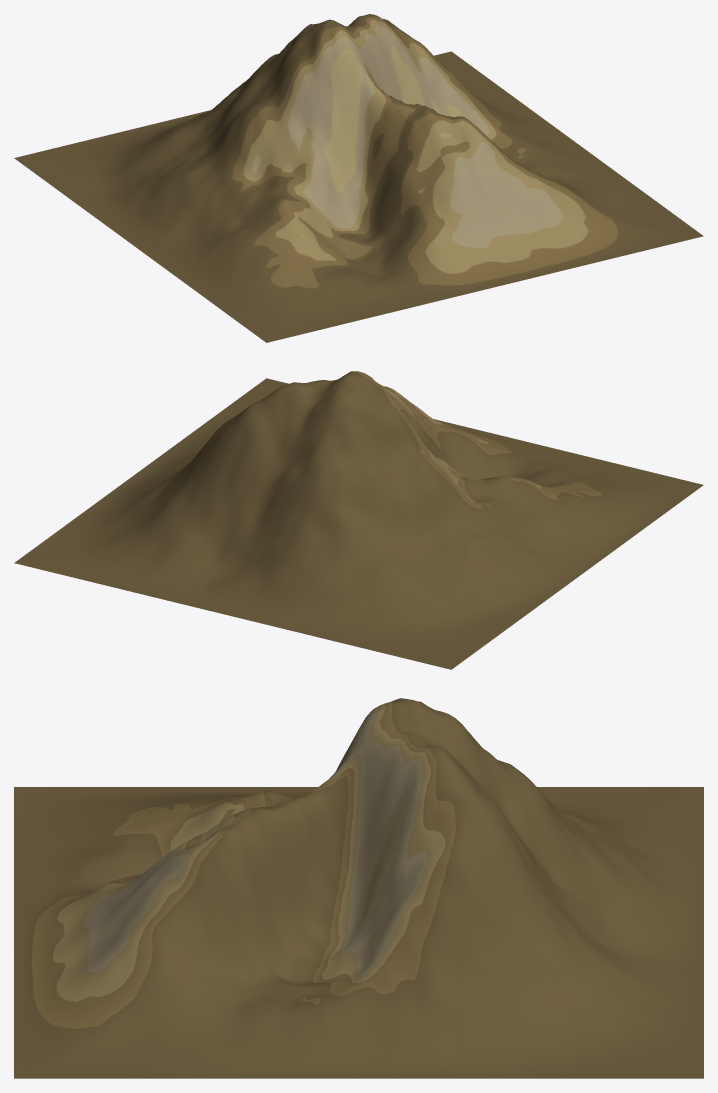
3 views of the same model, one above another, from view 1: azimuth 30°, elevation 25°; view 2: azimuth 150°, elevation 25°; view 3: azimuth 270°, elevation 25° (orthographic). The views are drawn at different scales.
Visible parts, largest first — view 1: Landscape.1; view 2: Landscape.1; view 3: Landscape.1.
Boxes of the visible parts, bbox=[...] form: Landscape.1: bbox=[14, 14, 703, 342]; Landscape.1: bbox=[14, 371, 703, 669]; Landscape.1: bbox=[14, 698, 703, 1078].
Bounding box in the file's own units: 1000 × 360 × 1000.
1 material, 1 textured.
